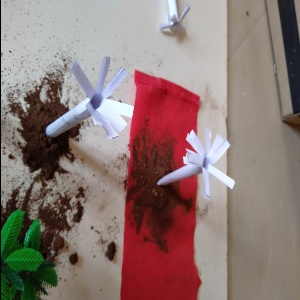plant: (1, 205, 67, 295)
weed: (40, 57, 131, 152), (146, 126, 229, 201), (152, 3, 206, 44)
